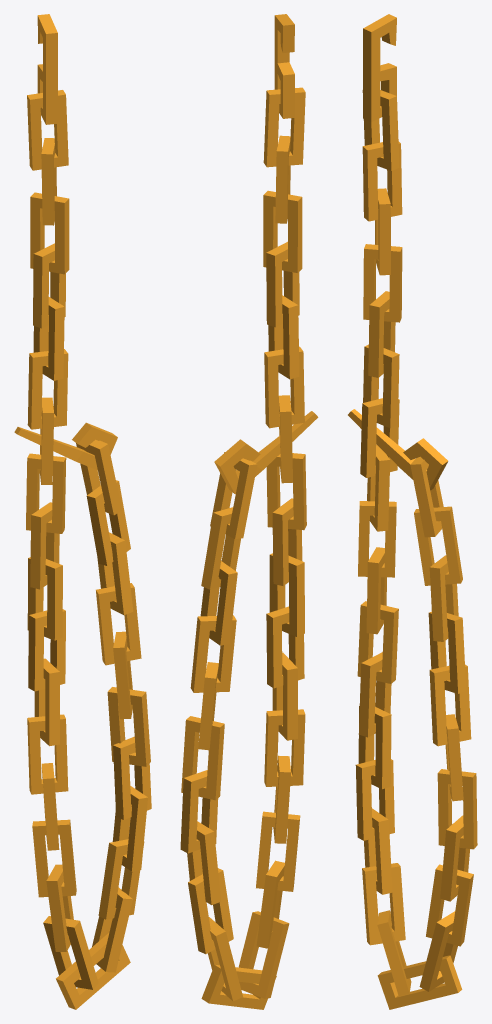
Rendered from SM_Chain_Hang_A.fbx.
3 renders of one model, left to right at view 1: azimuth 30°, elevation 25°; view 2: azimuth 210°, elevation 25°; view 3: azimuth 330°, elevation 25°, orthographic.
Parts seen in each view (by area): view 1: chain-hang-a; view 2: chain-hang-a; view 3: chain-hang-a.
Boxes of the visible parts, box(x1,y1,x2,y2) form: chain-hang-a: box(14, 14, 151, 1009); chain-hang-a: box(180, 14, 318, 1009); chain-hang-a: box(348, 14, 477, 1009).
Bounding box in the file's own units: 0.1247 × 0.8989 × 0.041.
